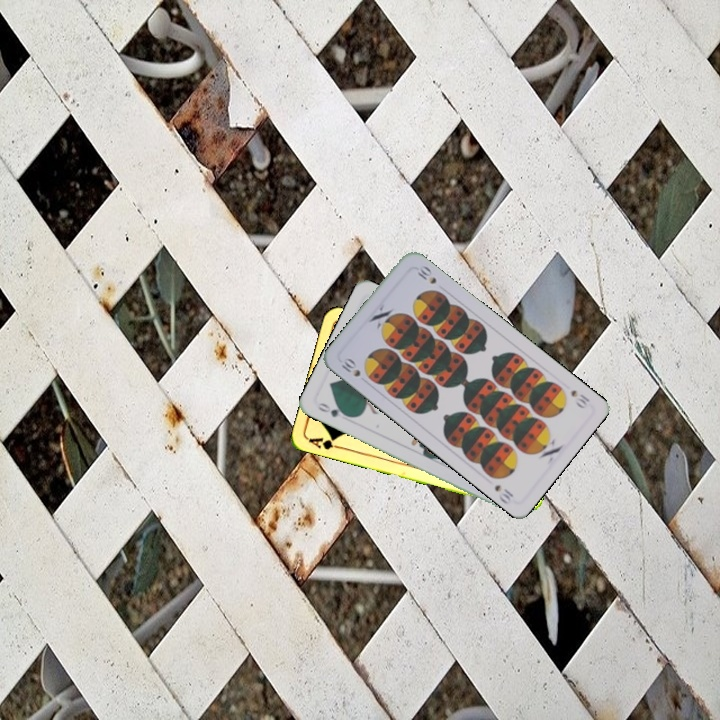GA: (305, 433, 345, 452)
GO: (314, 399, 352, 420)
S10: (337, 353, 363, 380), (567, 386, 592, 411)
